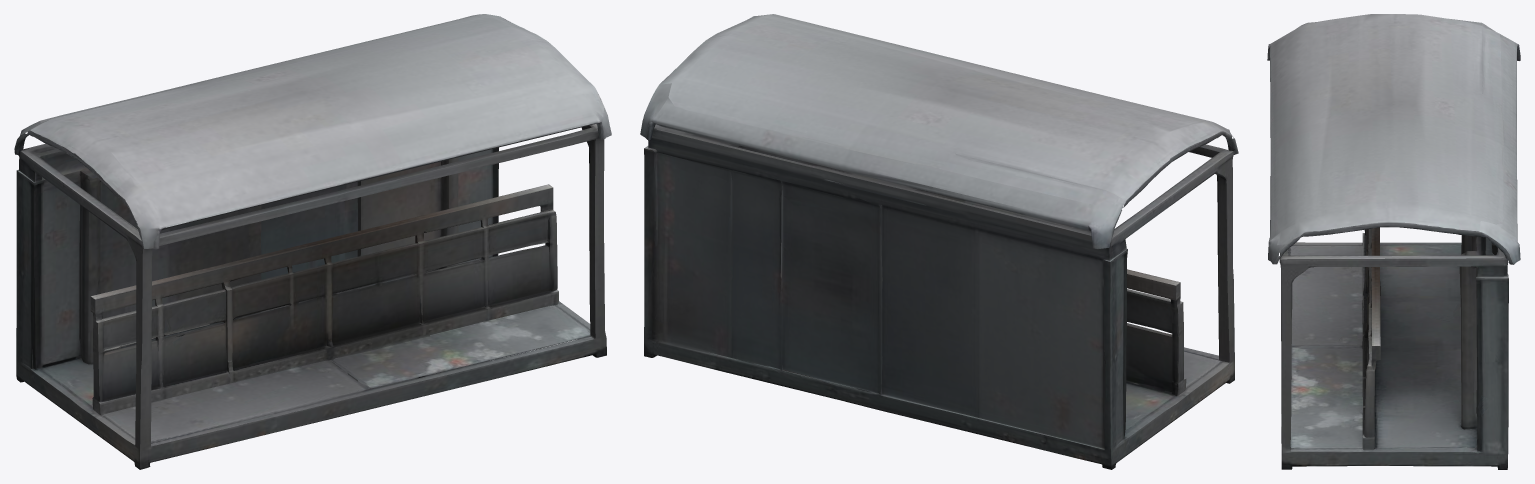
File: busstop_tex.glb
The picture shows the model from 3 angles, left to right: view 1: azimuth 30°, elevation 25°; view 2: azimuth 150°, elevation 25°; view 3: azimuth 270°, elevation 25°; orthographic projection. The views are drawn at different scales.
Parts seen in each view (by area): view 1: busstop; view 2: busstop; view 3: busstop.
Boxes of the visible parts, x1,y1,x2,y2 form: busstop: (14, 14, 611, 469); busstop: (640, 14, 1238, 469); busstop: (1267, 14, 1520, 469).
Size of the model in its own units: 1.76 by 1 by 0.8954.
1 material, 1 textured.
